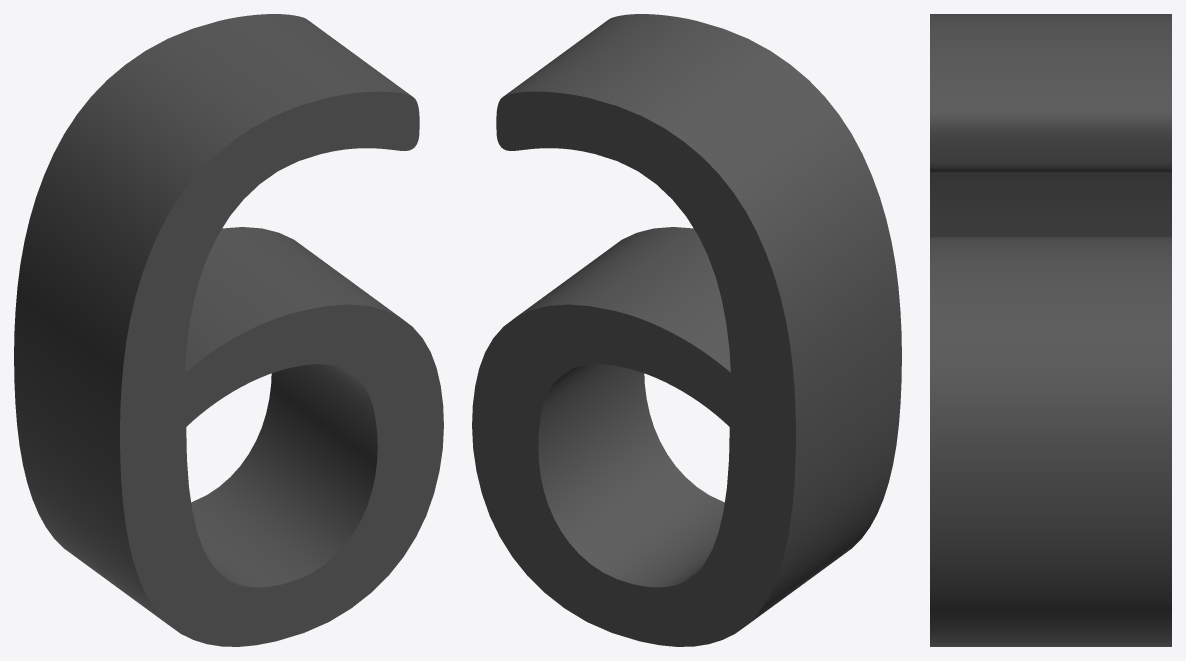
3 renders of one model, left to right at view 1: azimuth 30°, elevation 25°; view 2: azimuth 150°, elevation 25°; view 3: azimuth 270°, elevation 25°, orthographic. The views are drawn at different scales.
Parts seen in each view (by area): view 1: node_id142; view 2: node_id142; view 3: node_id142.
Part boxes in pixels (left/top/right/bottom): node_id142: left=14, top=14, right=443, bottom=646; node_id142: left=472, top=14, right=901, bottom=646; node_id142: left=930, top=14, right=1171, bottom=646.
Bounding box in the file's own units: 0.0265 × 0.0415 × 0.015.
1 material, 1 textured.
